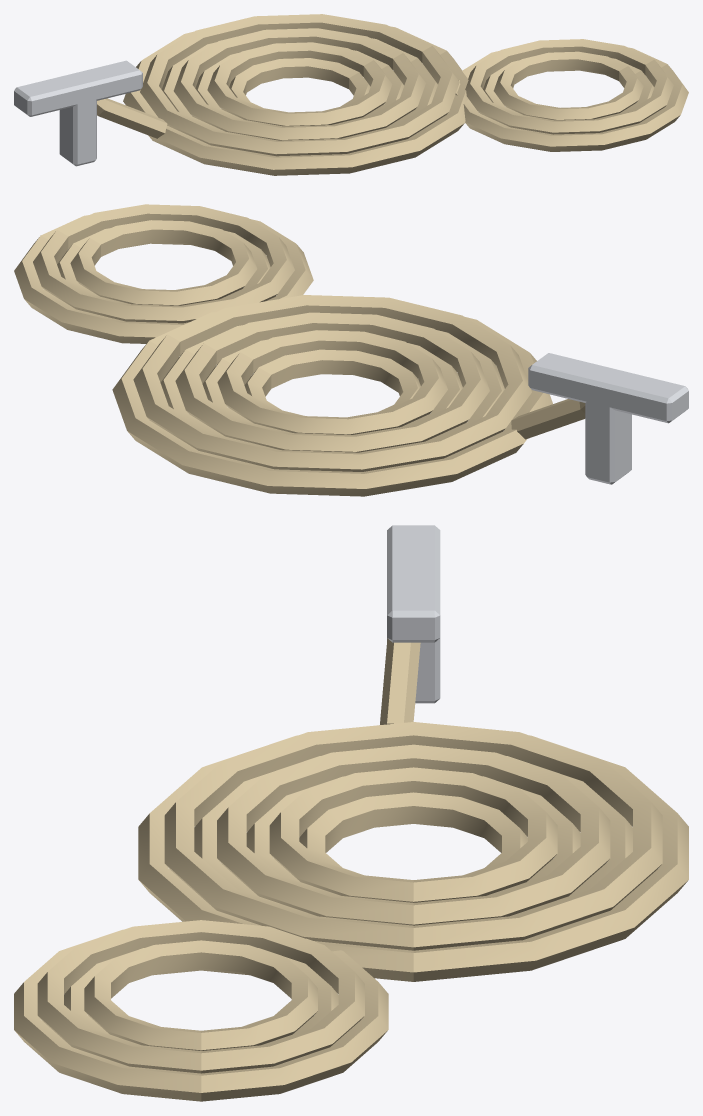
The model's file is theatre-stage-and-backstage-rope-coil-on-a-cleat-6a373854__35923.glb.
3 renders of one model, top to bottom at view 1: azimuth 30°, elevation 25°; view 2: azimuth 150°, elevation 25°; view 3: azimuth 270°, elevation 25°, orthographic. The views are drawn at different scales.
Visible parts, largest first — view 1: rope-coil-on-a-cleat; view 2: rope-coil-on-a-cleat; view 3: rope-coil-on-a-cleat.
Boxes of the visible parts, x1=… form: rope-coil-on-a-cleat: x1=14, y1=14, x2=688, y2=175; rope-coil-on-a-cleat: x1=14, y1=204, x2=688, y2=496; rope-coil-on-a-cleat: x1=14, y1=525, x2=688, y2=1101.
Size of the model in its own units: 1.22 by 0.16 by 0.7626.
